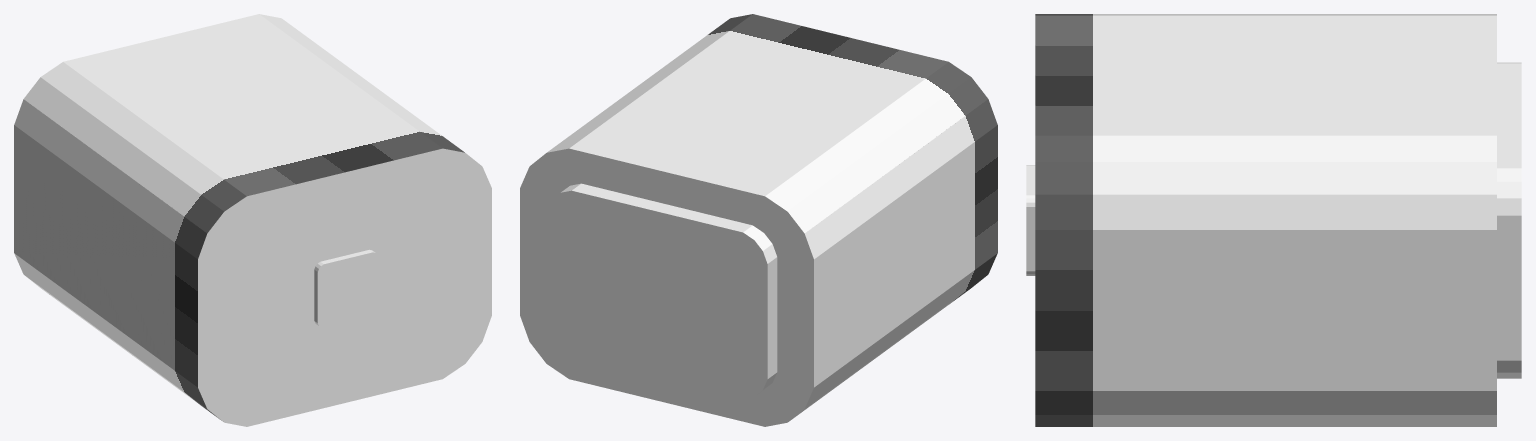
File: gpp_medium_electric_light.obj
3 renders of one model, left to right at view 1: azimuth 30°, elevation 25°; view 2: azimuth 150°, elevation 25°; view 3: azimuth 270°, elevation 25°, orthographic. The views are drawn at different scales.
Visible parts, largest first — view 1: case, shaft; view 2: case, battery; view 3: case, battery, shaft.
Boxes of the visible parts, x1,y1,x2,y2 form: case: [14, 14, 491, 426]; shaft: [314, 249, 378, 328]; case: [520, 14, 997, 426]; battery: [547, 183, 777, 398]; case: [1035, 14, 1496, 426]; battery: [1497, 62, 1521, 378]; shaft: [1026, 165, 1035, 275].
Size of the model in its own units: 0.558 by 0.4185 by 0.6481.
